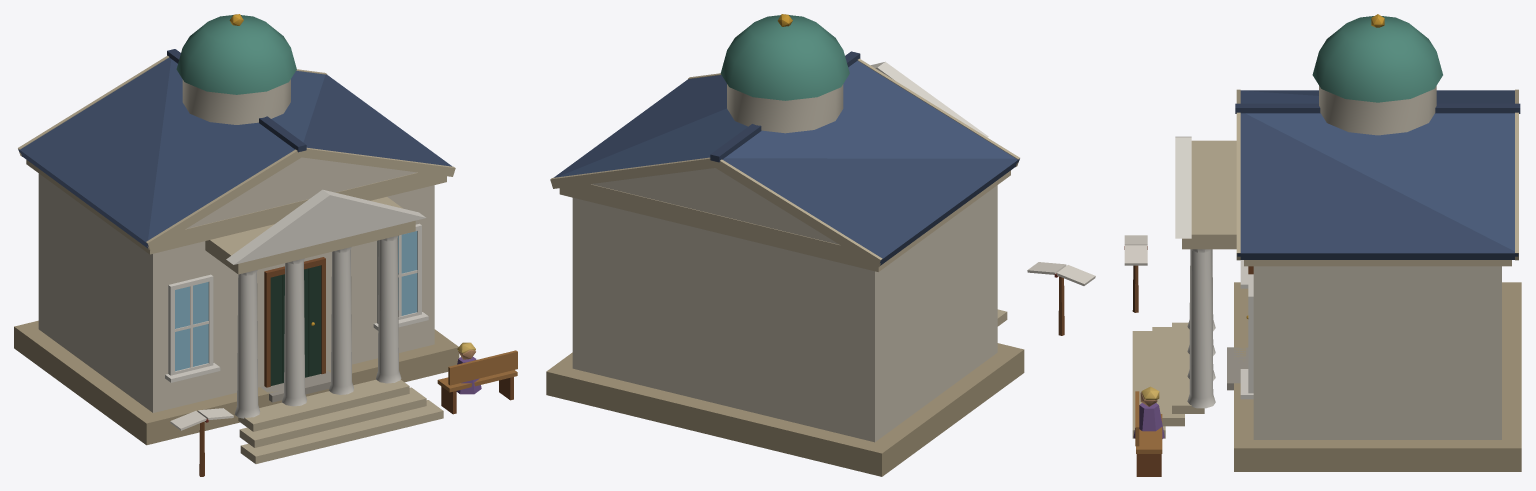
File: library.glb
3 views of the same model, side by side, from view 1: azimuth 30°, elevation 25°; view 2: azimuth 150°, elevation 25°; view 3: azimuth 270°, elevation 25° (orthographic). The views are drawn at different scales.
Visible parts, largest first — view 1: town-library; view 2: town-library; view 3: town-library.
Part boxes in pixels (x1=…): town-library: x1=14, y1=14, x2=517, y2=476; town-library: x1=546, y1=14, x2=1095, y2=476; town-library: x1=1124, y1=14, x2=1521, y2=476.
Bounding box in the file's own units: 6.56 × 6.3 × 6.08.
